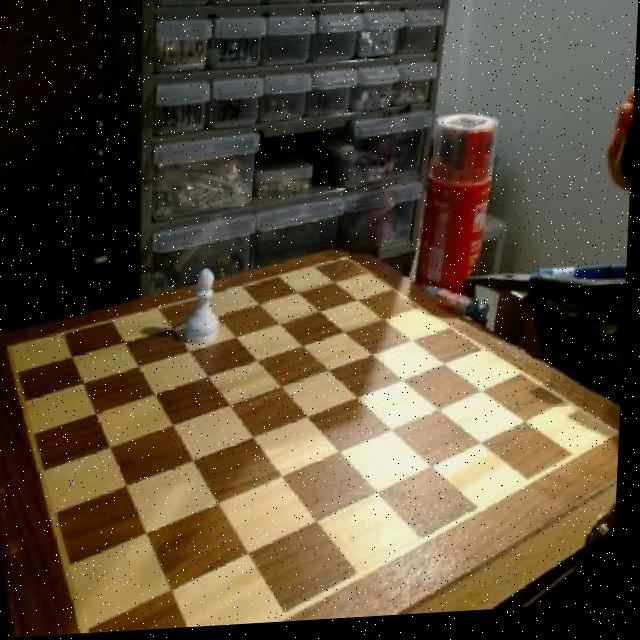white-knight: (186, 271, 230, 347)
